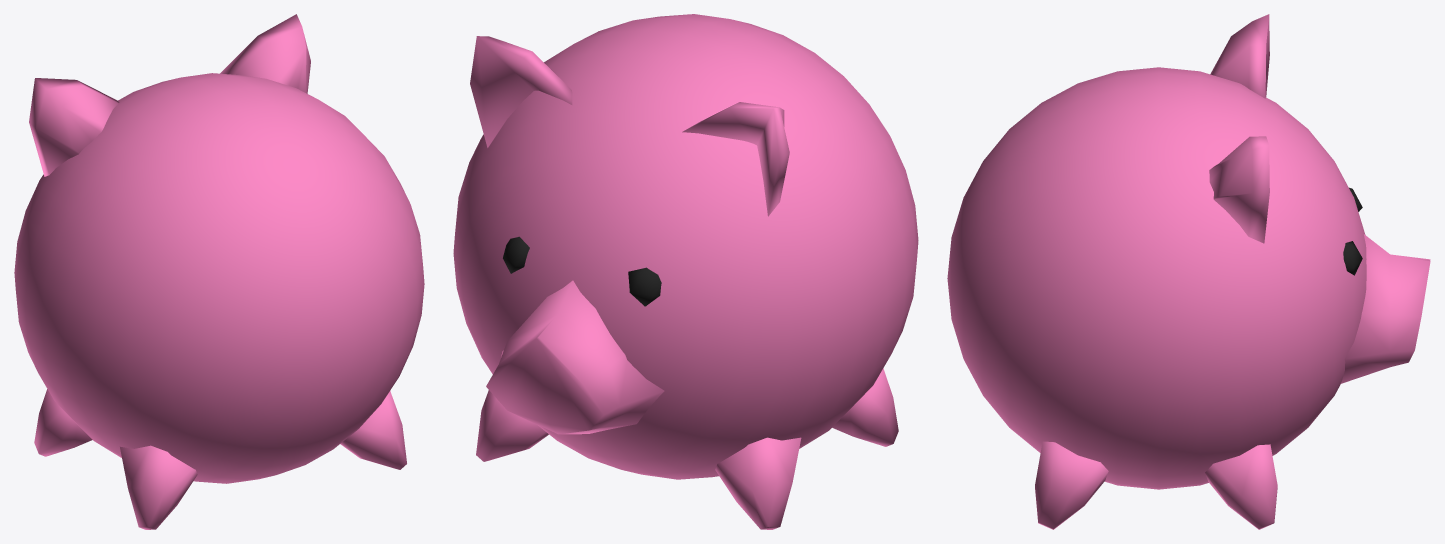
The model's file is Animation_Pig_Spit.fbx.
3 views of the same model, side by side, from view 1: azimuth 30°, elevation 25°; view 2: azimuth 150°, elevation 25°; view 3: azimuth 270°, elevation 25° (orthographic). The views are drawn at different scales.
Parts seen in each view (by area): view 1: SM_Pig_Spit; view 2: SM_Pig_Spit; view 3: SM_Pig_Spit.
Boxes of the visible parts, bbox=[...] form: SM_Pig_Spit: bbox=[14, 14, 424, 529]; SM_Pig_Spit: bbox=[453, 14, 918, 529]; SM_Pig_Spit: bbox=[947, 14, 1430, 529].
Bounding box in the file's own units: 57.13 × 58.21 × 65.29.
Materials: 1 (1 with a texture image).
